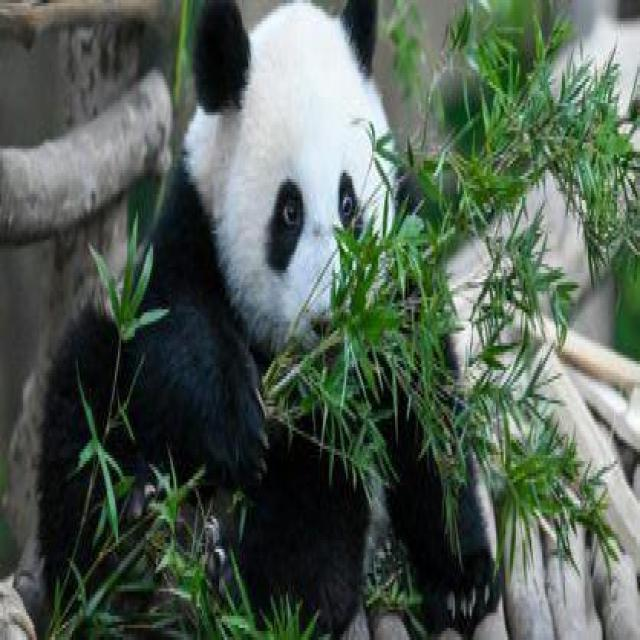Herbivorous: (9, 0, 389, 640), (372, 379, 502, 640)
